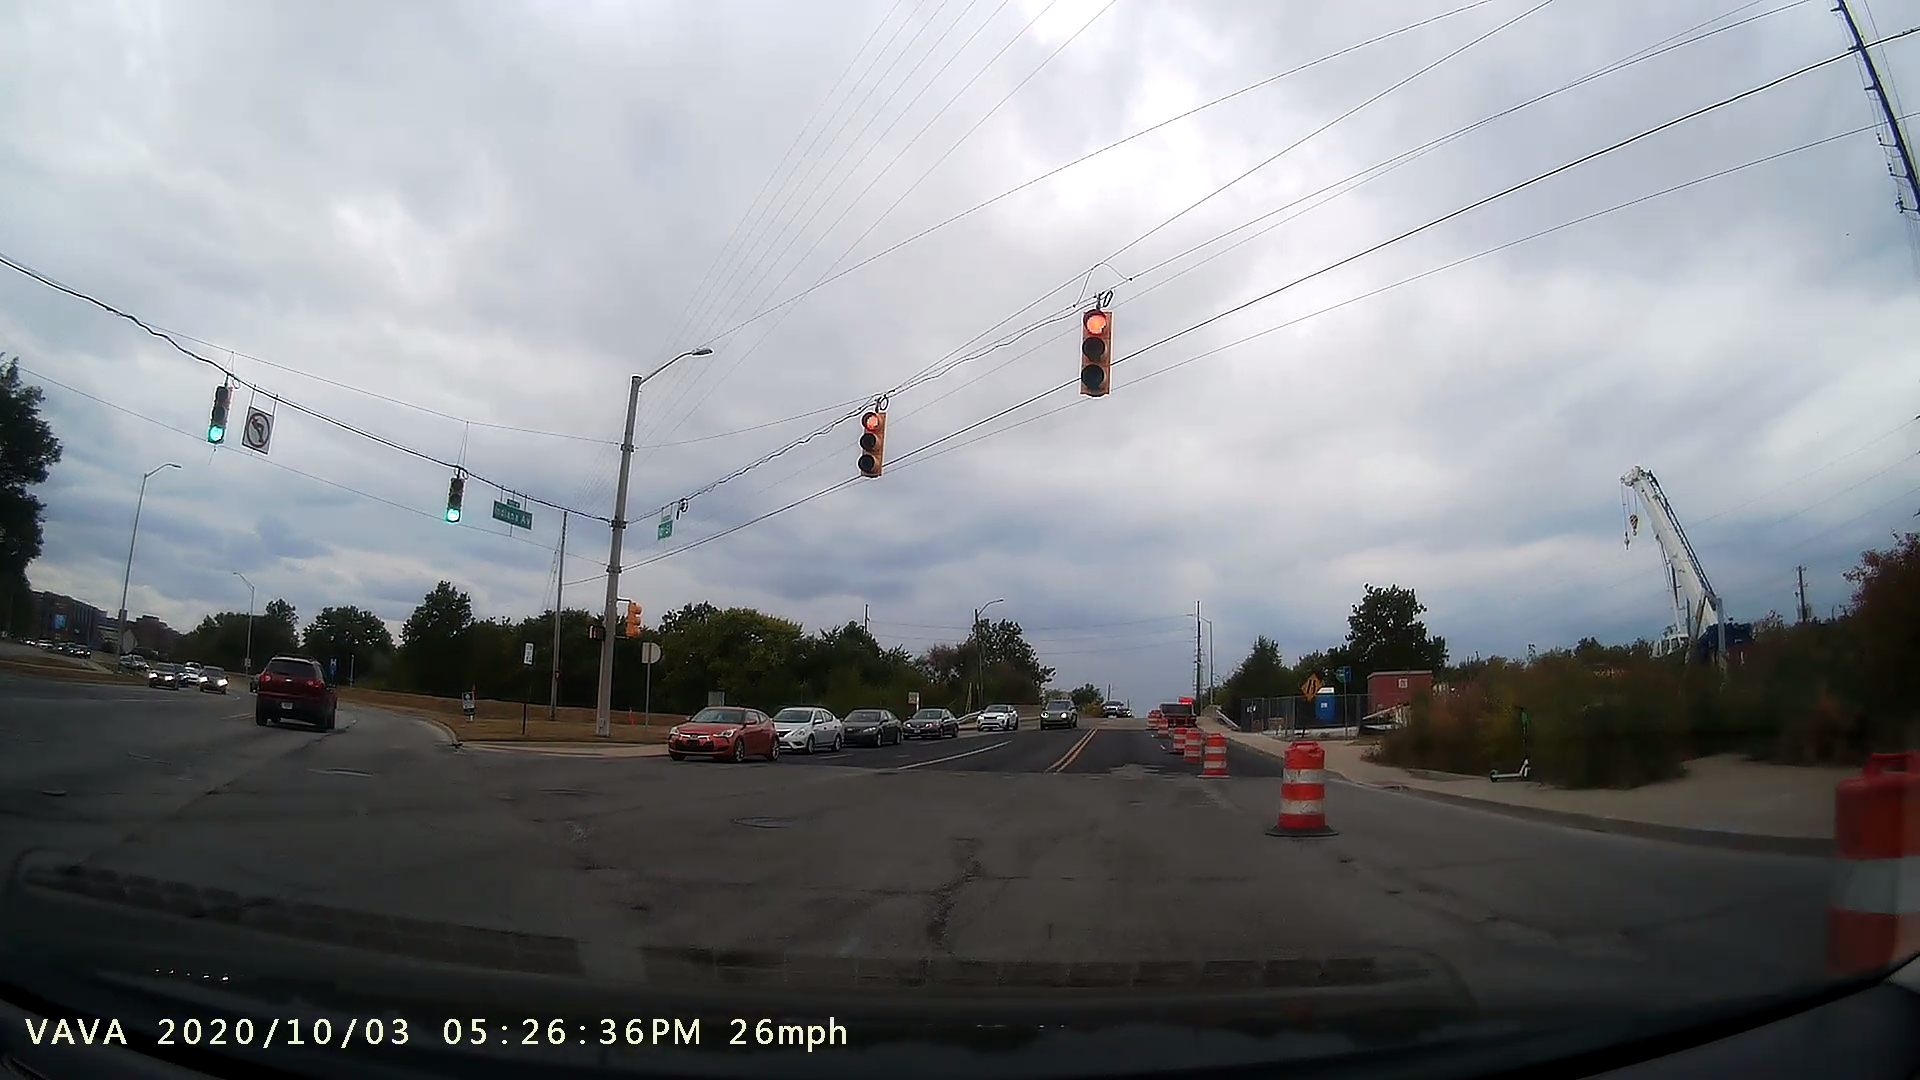const_barrel: (1259, 738, 1348, 851), (1195, 727, 1234, 782)
